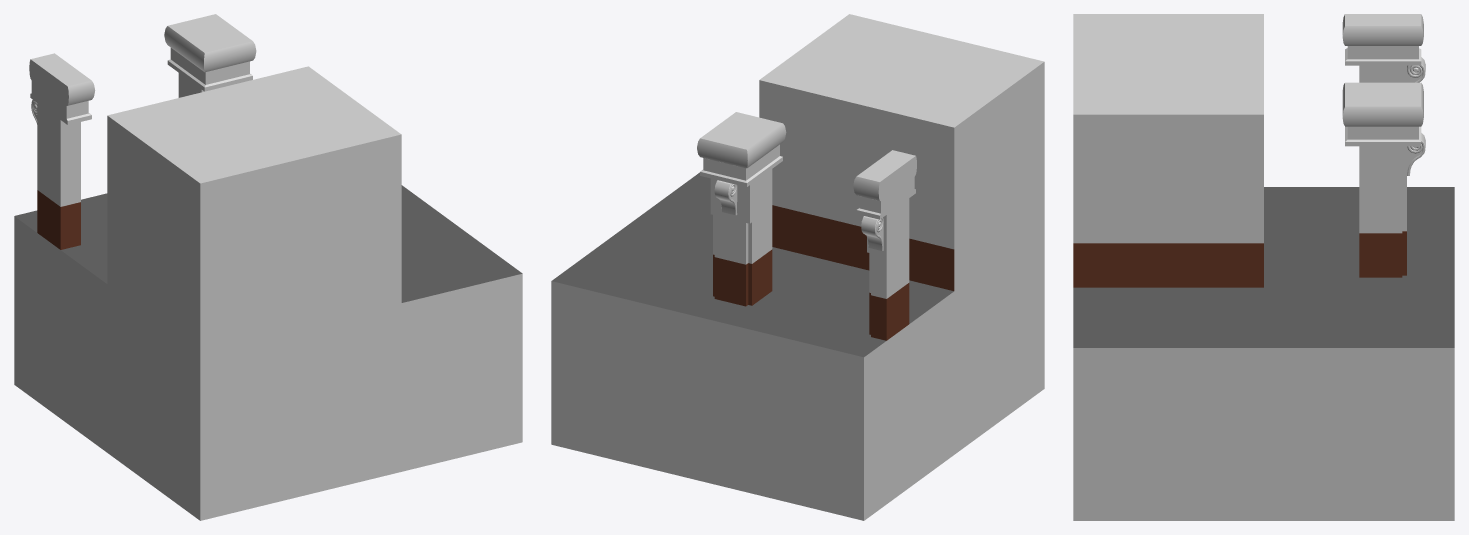
File: House_Base_Side_Back_cvx_var0.fbx
3 renders of one model, left to right at view 1: azimuth 30°, elevation 25°; view 2: azimuth 150°, elevation 25°; view 3: azimuth 270°, elevation 25°, orthographic. The views are drawn at different scales.
Parts seen in each view (by area): view 1: House_Base_Side_Back_cvx_MESH; view 2: House_Base_Side_Back_cvx_MESH; view 3: House_Base_Side_Back_cvx_MESH.
Boxes of the visible parts, x1,y1,x2,y2 form: House_Base_Side_Back_cvx_MESH: (14, 14, 522, 520); House_Base_Side_Back_cvx_MESH: (551, 14, 1044, 520); House_Base_Side_Back_cvx_MESH: (1073, 14, 1454, 520).
Bounding box in the file's own units: 4 × 4 × 4.
